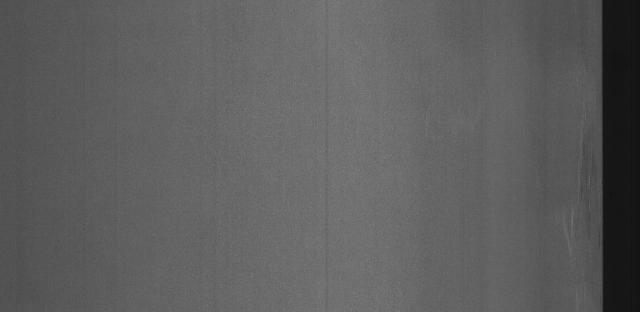silk_spot: (559, 93, 600, 294)
